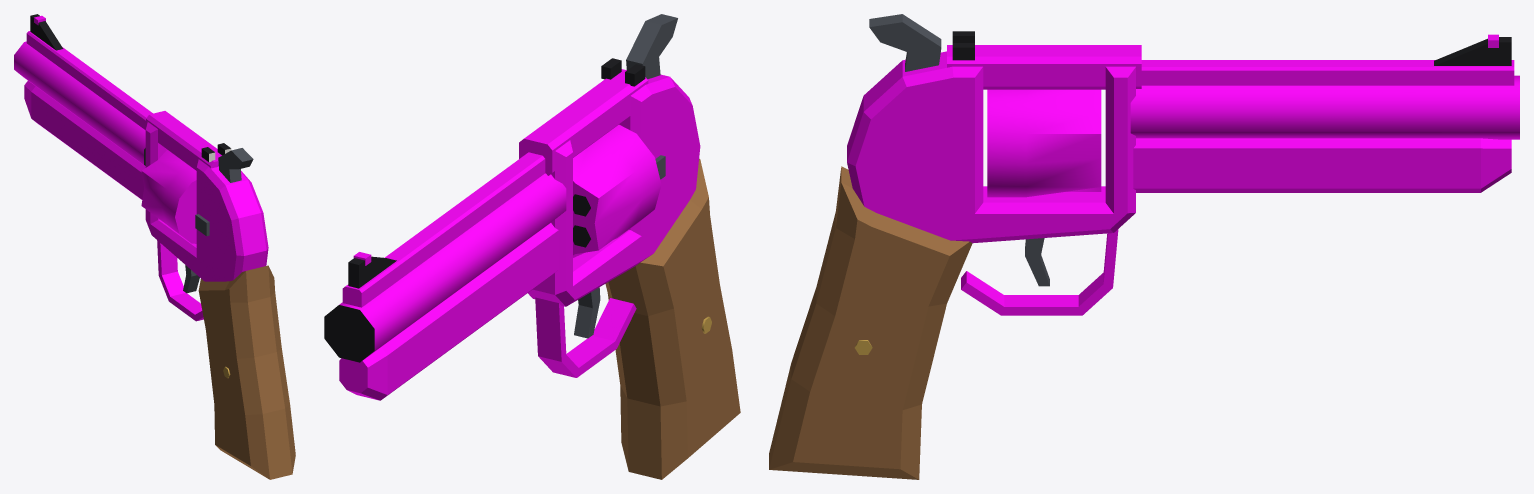
File: revolver.glb
3 renders of one model, left to right at view 1: azimuth 30°, elevation 25°; view 2: azimuth 150°, elevation 25°; view 3: azimuth 270°, elevation 25°, orthographic. The views are drawn at different scales.
Visible parts, largest first — view 1: revolver__body, revolver__cylinder; view 2: revolver__body, revolver__cylinder; view 3: revolver__body, revolver__cylinder.
Boxes of the visible parts, x1,y1,x2,y2 form: revolver__body: [14, 14, 295, 479]; revolver__cylinder: [141, 150, 196, 243]; revolver__body: [324, 14, 740, 479]; revolver__cylinder: [573, 124, 661, 257]; revolver__body: [769, 14, 1519, 479]; revolver__cylinder: [987, 89, 1101, 197].
Size of the model in its own units: 0.042 by 0.18 by 0.27.
Materials: 1 (1 with a texture image).
